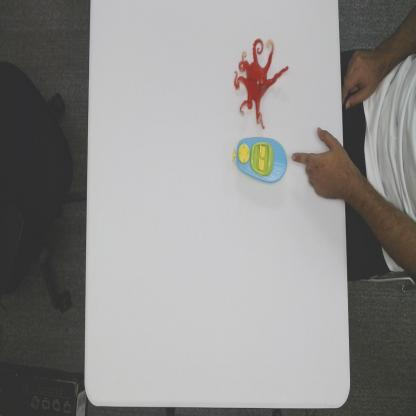Boat: (231, 136, 288, 184)
Hand: (291, 126, 353, 202)
Octopus: (234, 36, 290, 131)
